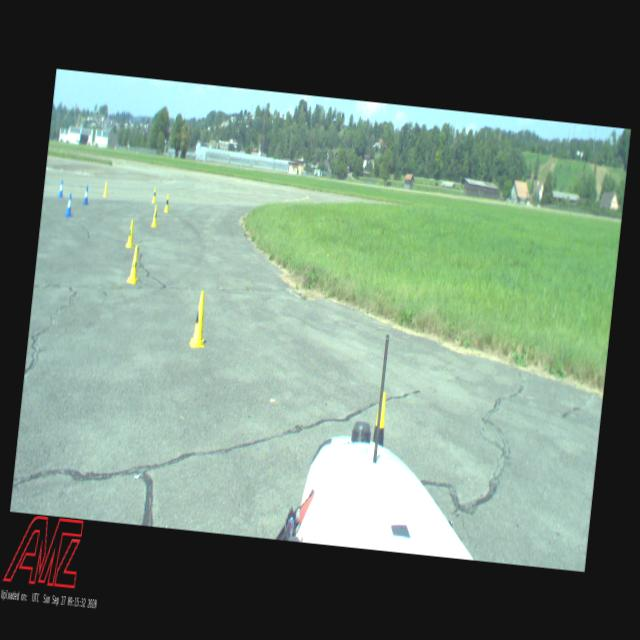blue_cone: (64, 192, 72, 216), (82, 185, 90, 205), (58, 180, 64, 198)
yellow_cone: (188, 290, 210, 348), (372, 392, 388, 446), (126, 244, 141, 284), (124, 219, 134, 248), (150, 204, 158, 227), (163, 194, 170, 212), (151, 186, 157, 202), (102, 181, 108, 197)
